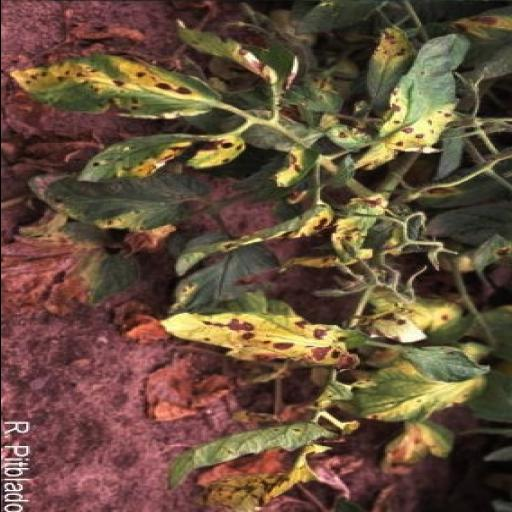disease_tomato: (340, 36, 472, 182), (8, 52, 226, 121), (172, 202, 336, 276), (29, 173, 211, 233), (159, 312, 357, 363), (176, 20, 301, 95), (340, 361, 486, 420), (85, 132, 243, 186)
